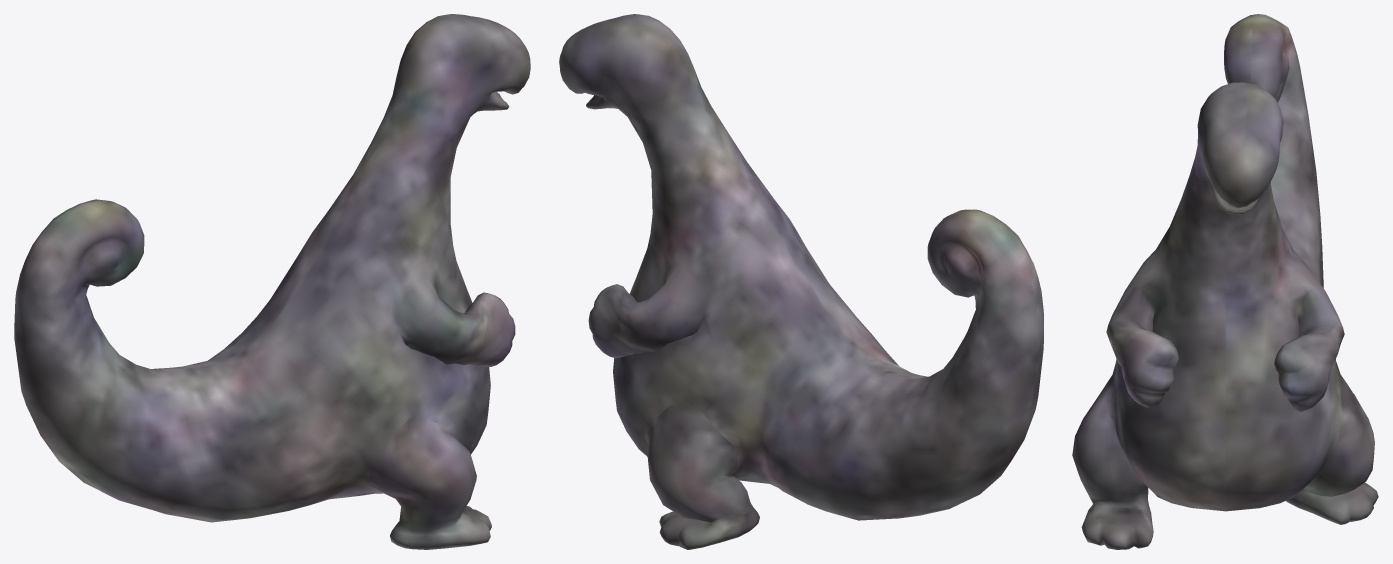
The model's file is SM_Relic_LazyDragon_3fa1a8.glb.
3 views of the same model, side by side, from view 1: azimuth 30°, elevation 25°; view 2: azimuth 150°, elevation 25°; view 3: azimuth 270°, elevation 25° (orthographic). The views are drawn at different scales.
Size of the model in its own units: 0.6652 by 0.5969 by 0.3453.
Materials: 1 (1 with a texture image).
